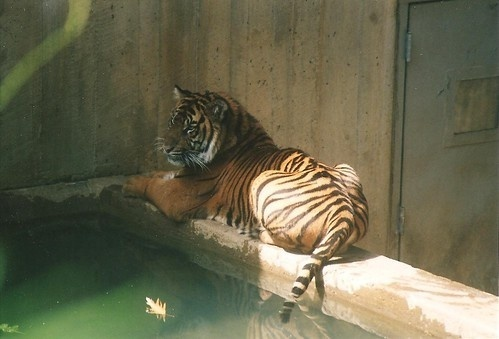tigre: (118, 82, 371, 318)
